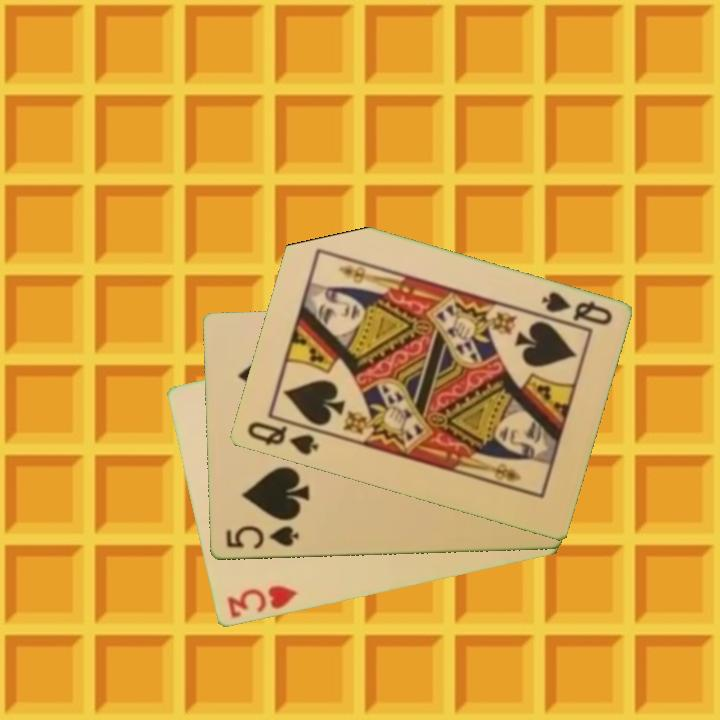3h: (223, 582, 300, 622)
5s: (222, 523, 301, 553)
Qs: (534, 288, 615, 332), (243, 418, 322, 459)
